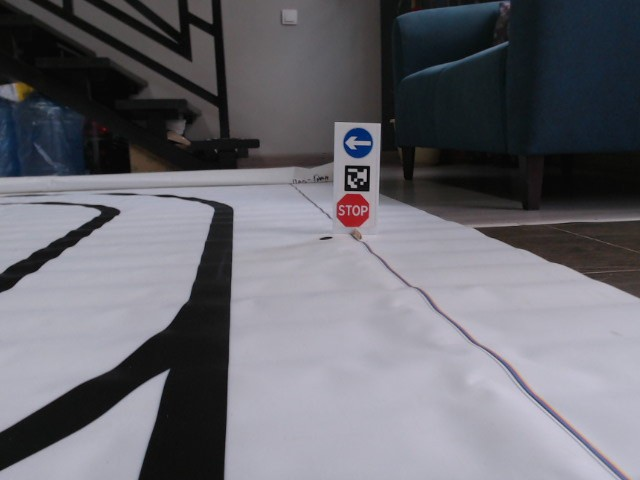Stop: (336, 193, 370, 228)
